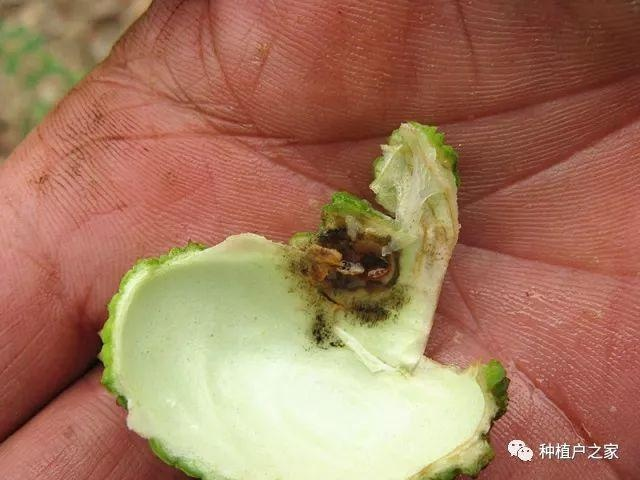Borer: (291, 233, 398, 284)
